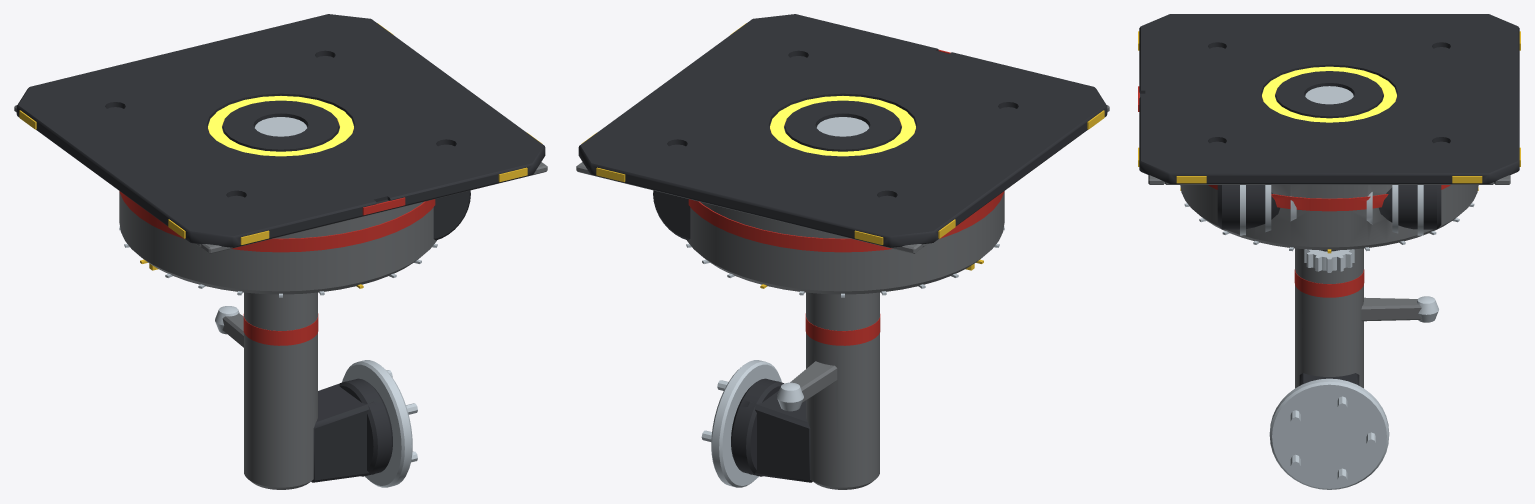
The model's file is R4M_IndependentSteering.glb.
The picture shows the model from 3 angles, left to right: view 1: azimuth 30°, elevation 25°; view 2: azimuth 150°, elevation 25°; view 3: azimuth 270°, elevation 25°; orthographic projection. The views are drawn at different scales.
Visible parts, largest first — view 1: R4M_IndependentSteering_ServoDrum, R4M_IndependentSteering_Knuckle; view 2: R4M_IndependentSteering_ServoDrum, R4M_IndependentSteering_Knuckle; view 3: R4M_IndependentSteering_ServoDrum, R4M_IndependentSteering_Knuckle, R4M_IndependentSteering_Pinion.
Boxes of the visible parts, bbox=[...] form: R4M_IndependentSteering_ServoDrum: bbox=[14, 14, 547, 297]; R4M_IndependentSteering_Knuckle: bbox=[149, 263, 417, 489]; R4M_IndependentSteering_ServoDrum: bbox=[576, 14, 1109, 297]; R4M_IndependentSteering_Knuckle: bbox=[701, 263, 974, 489]; R4M_IndependentSteering_ServoDrum: bbox=[1138, 14, 1520, 253]; R4M_IndependentSteering_Knuckle: bbox=[1269, 248, 1438, 489]; R4M_IndependentSteering_Pinion: bbox=[1304, 249, 1354, 272].
Bounding box in the file's own units: 0.5126 × 0.52 × 0.5126.
